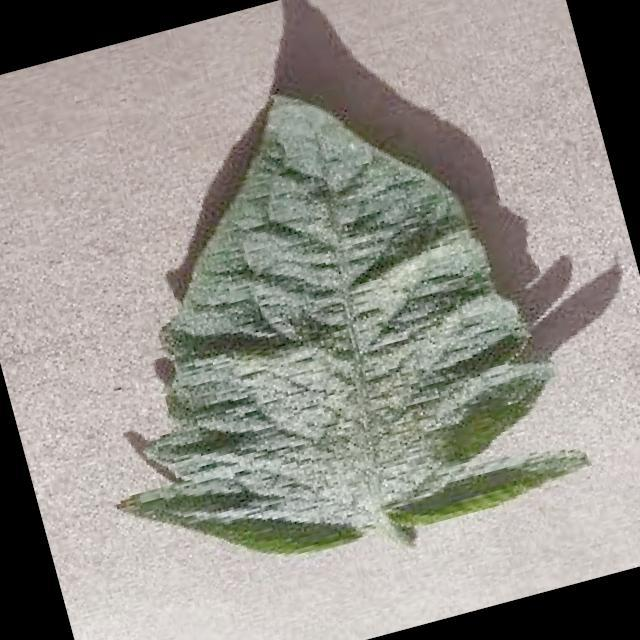Tomato spider mites leaf: (23, 40, 594, 604)
